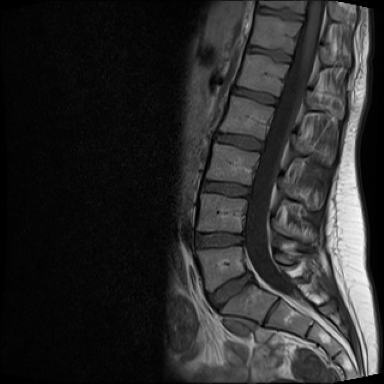Degenerative Disc Disease (DDD): (252, 3, 307, 27)
Lumbar Disc Bulge (LDB): (204, 261, 255, 319), (187, 219, 254, 252)
Normal IVD: (210, 124, 269, 160), (225, 78, 283, 113), (241, 38, 296, 71), (192, 175, 254, 203)
